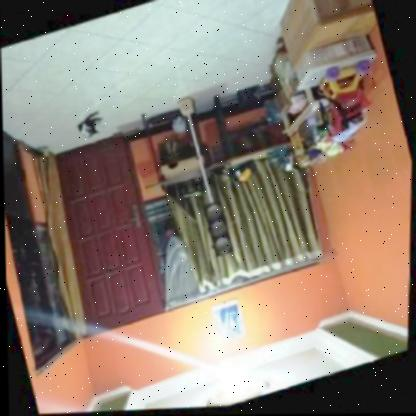Traffic Light -Yellow-: (201, 200, 237, 261)
